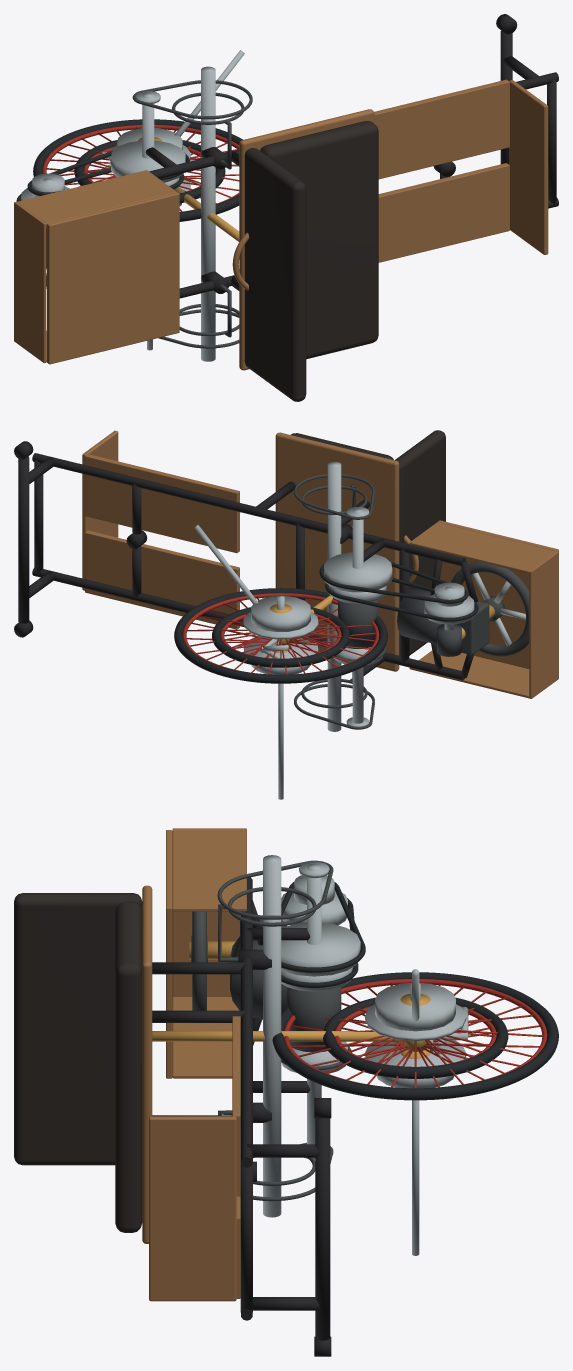
The model's file is car.glb.
3 views of the same model, one above another, from view 1: azimuth 30°, elevation 25°; view 2: azimuth 150°, elevation 25°; view 3: azimuth 270°, elevation 25° (orthographic). The views are drawn at different scales.
Visible parts, largest first — view 1: chassis|218, chassis|213, chassis|214, chassis|216, chassis|215, chassis|217, chassis|221, chassis|220, chassis|12, chassis|212, rear_left|40, chassis|185 (+15 smaller); view 2: chassis|212, chassis|216, chassis|215, chassis|214, chassis|221, chassis|1, chassis|220, rear_left|40, chassis|218, chassis|12, chassis|0, chassis|219 (+28 smaller); view 3: chassis|214, chassis|217, chassis|213, rear_left|40, chassis|12, chassis|220, front_left|75, chassis|219, chassis|13, chassis|212, chassis|221, chassis|1 (+25 smaller).
Boxes of the visible parts, x1=… form: chassis|218: x1=47, y1=192, x2=179, y2=364; chassis|213: x1=260, y1=121, x2=378, y2=359; chassis|214: x1=244, y1=148, x2=306, y2=401; chassis|216: x1=374, y1=79, x2=509, y2=179; chassis|215: x1=378, y1=163, x2=509, y2=262; chassis|217: x1=509, y1=80, x2=548, y2=254; chassis|221: x1=14, y1=201, x2=46, y2=363; chassis|220: x1=17, y1=170, x2=176, y2=226; chassis|12: x1=201, y1=66, x2=215, y2=361; chassis|212: x1=239, y1=109, x2=374, y2=370; rear_left|40: x1=33, y1=119, x2=242, y2=221; chassis|185: x1=111, y1=140, x2=185, y2=182; chassis|212: x1=275, y1=432, x2=399, y2=671; chassis|216: x1=85, y1=454, x2=239, y2=553; chassis|215: x1=85, y1=530, x2=239, y2=629; chassis|214: x1=395, y1=430, x2=445, y2=655; chassis|221: x1=529, y1=551, x2=558, y2=698; chassis|1: x1=32, y1=453, x2=465, y2=565; chassis|220: x1=409, y1=522, x2=555, y2=573; rear_left|40: x1=174, y1=588, x2=387, y2=683; chassis|218: x1=437, y1=520, x2=558, y2=668; chassis|12: x1=327, y1=461, x2=341, y2=731; chassis|0: x1=32, y1=568, x2=464, y2=680; chassis|219: x1=409, y1=650, x2=529, y2=698; chassis|214: x1=14, y1=893, x2=142, y2=1165; chassis|217: x1=149, y1=1116, x2=236, y2=1301; chassis|213: x1=115, y1=902, x2=142, y2=1232; rear_left|40: x1=272, y1=972, x2=558, y2=1100; chassis|12: x1=263, y1=855, x2=281, y2=1217; chassis|220: x1=172, y1=830, x2=246, y2=911; front_left|75: x1=323, y1=997, x2=508, y2=1078; chassis|219: x1=172, y1=997, x2=239, y2=1078; chassis|13: x1=315, y1=1118, x2=330, y2=1340; chassis|212: x1=142, y1=885, x2=152, y2=1243; chassis|221: x1=172, y1=828, x2=246, y2=996; chassis|1: x1=241, y1=877, x2=252, y2=1167.
Bounding box in the file's own units: 2.28 × 1.29 × 1.62.
